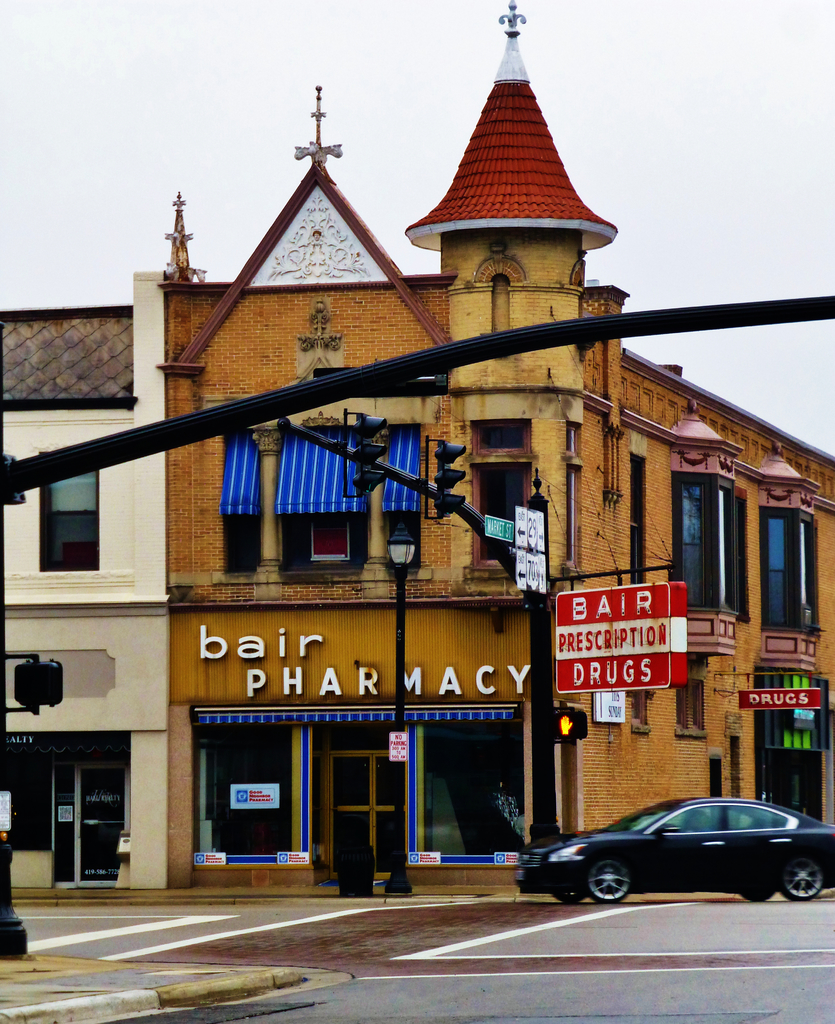Car: (515, 790, 825, 902)
